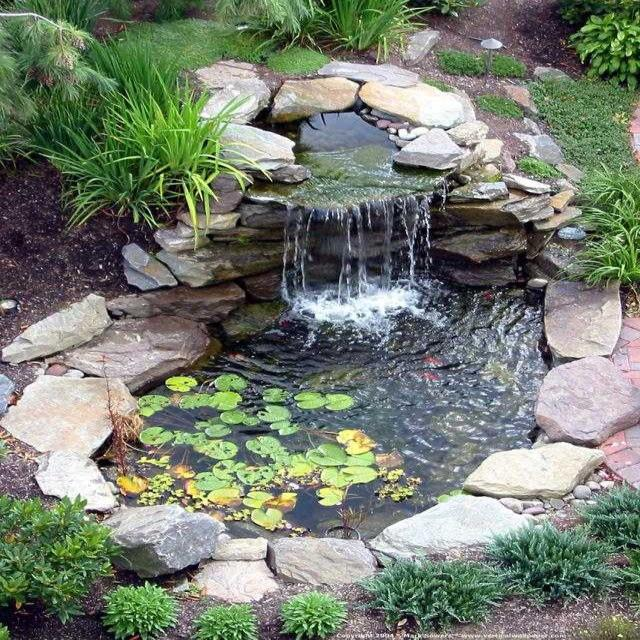Ponds: (1, 59, 633, 615)
